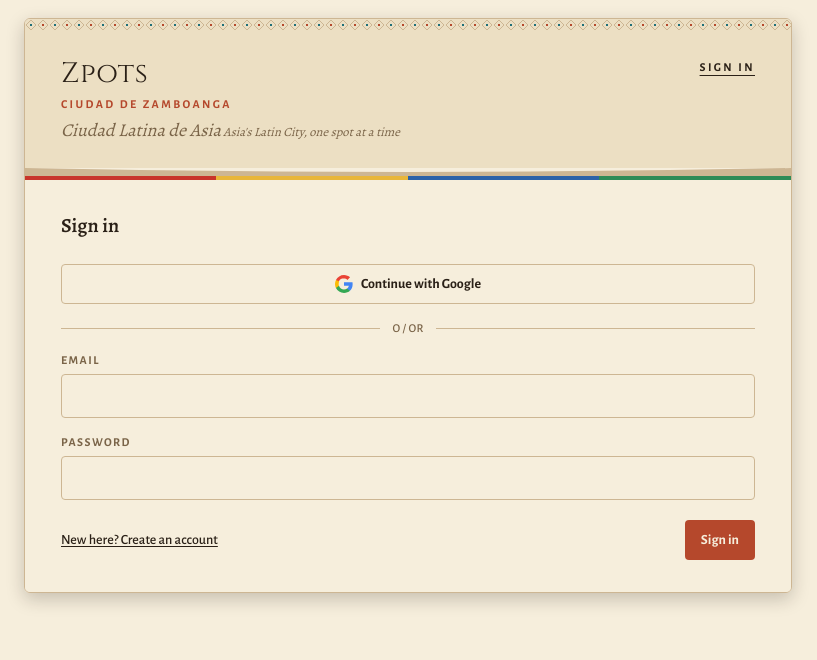
Test: Login page -- sign-in › 429 disables the submit button
In the field labelled "Email": (408, 396) [61,374,755,418], type "a@b.com"
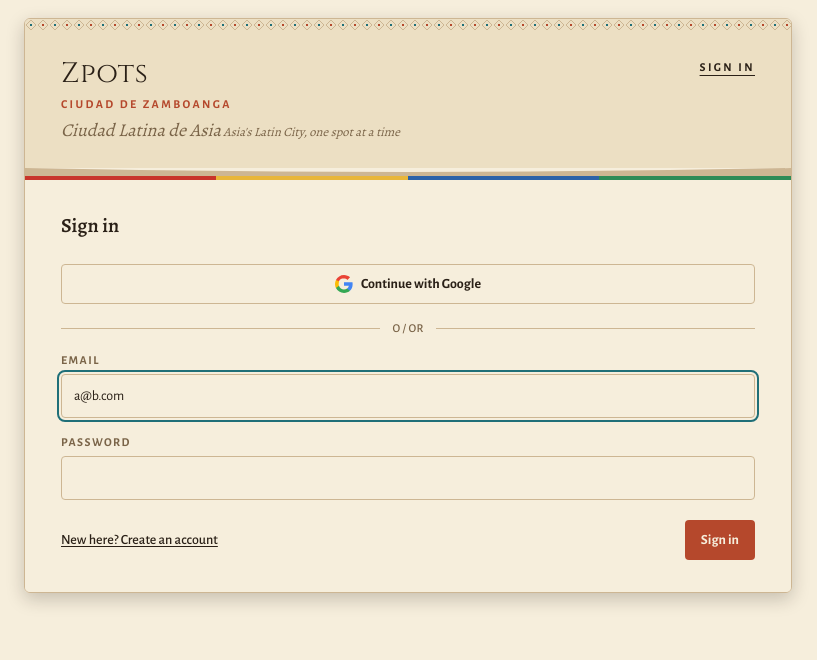
In the password field labelled "Password": (408, 478) [61,456,755,500], type "password1"
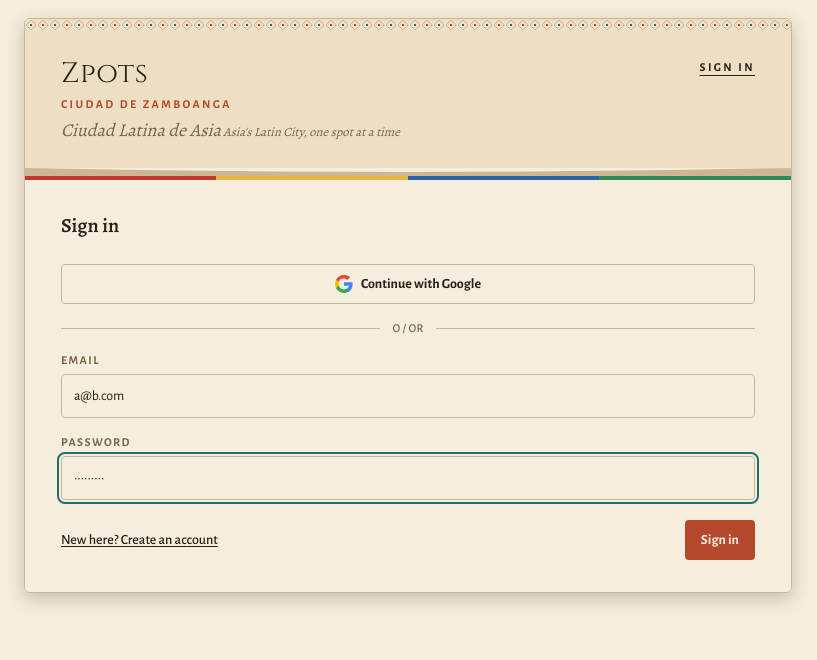
Click the button "Sign in": click(720, 540) [685,520,755,560]
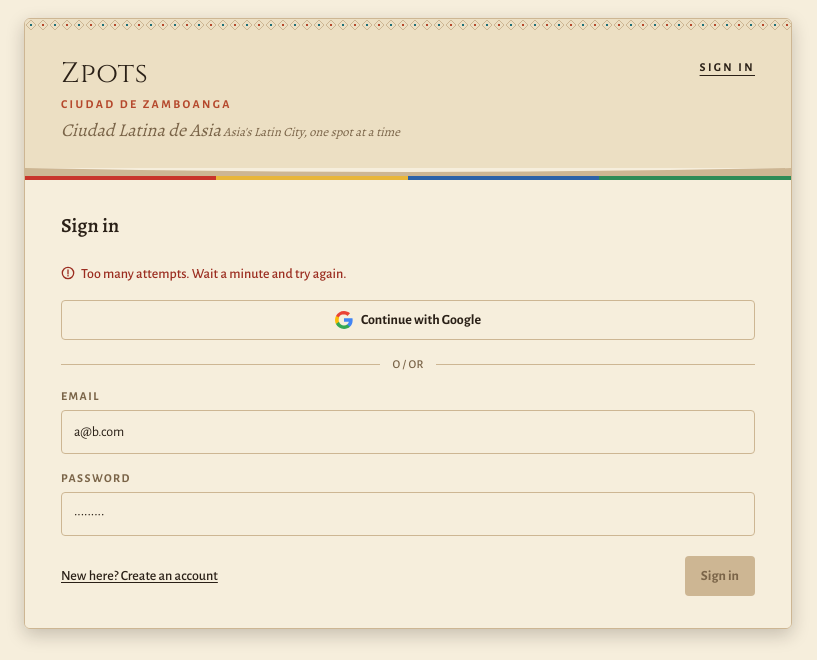
Check: the text "Too many attempts. Wait a minute and try again." is shown, box [81,264,346,284]
Check: the button "Sign in" is disabled, box [685,556,755,596]
